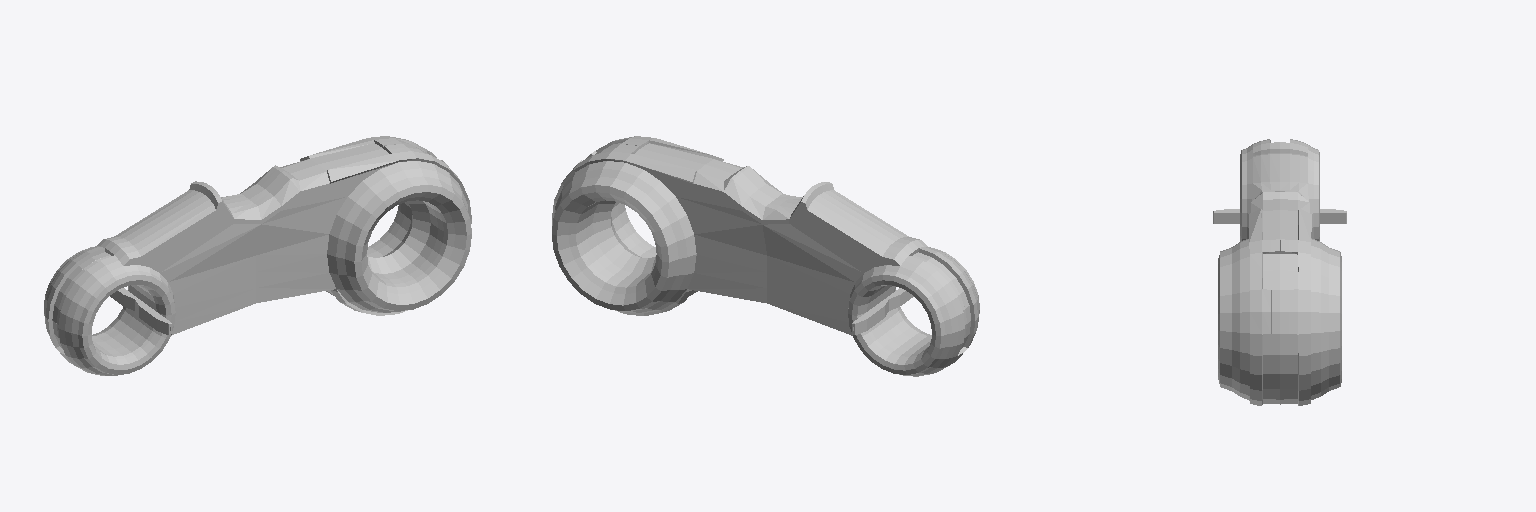
File: UnmountedTron.obj
3 renders of one model, left to right at view 1: azimuth 30°, elevation 25°; view 2: azimuth 150°, elevation 25°; view 3: azimuth 270°, elevation 25°, orthographic.
Parts seen in each view (by area): view 1: RightFrontBike, RightBackBike, LegRest; view 2: RightFrontBike, RightBackBike, LegRest; view 3: RightFrontBike, RightBackBike, LegRest.
Boxes of the visible parts, <box> form: RightFrontBike: <box>231,136,471,315</box>; RightBackBike: <box>44,181,260,375</box>; LegRest: <box>110,288,171,334</box>; RightFrontBike: <box>552,136,792,315</box>; RightBackBike: <box>762,182,979,376</box>; LegRest: <box>852,288,913,334</box>; RightFrontBike: <box>1218,190,1341,405</box>; RightBackBike: <box>1240,139,1319,241</box>; LegRest: <box>1213,209,1346,223</box>.
Bounding box in the file's own units: 7.13 × 2.7 × 2.03.